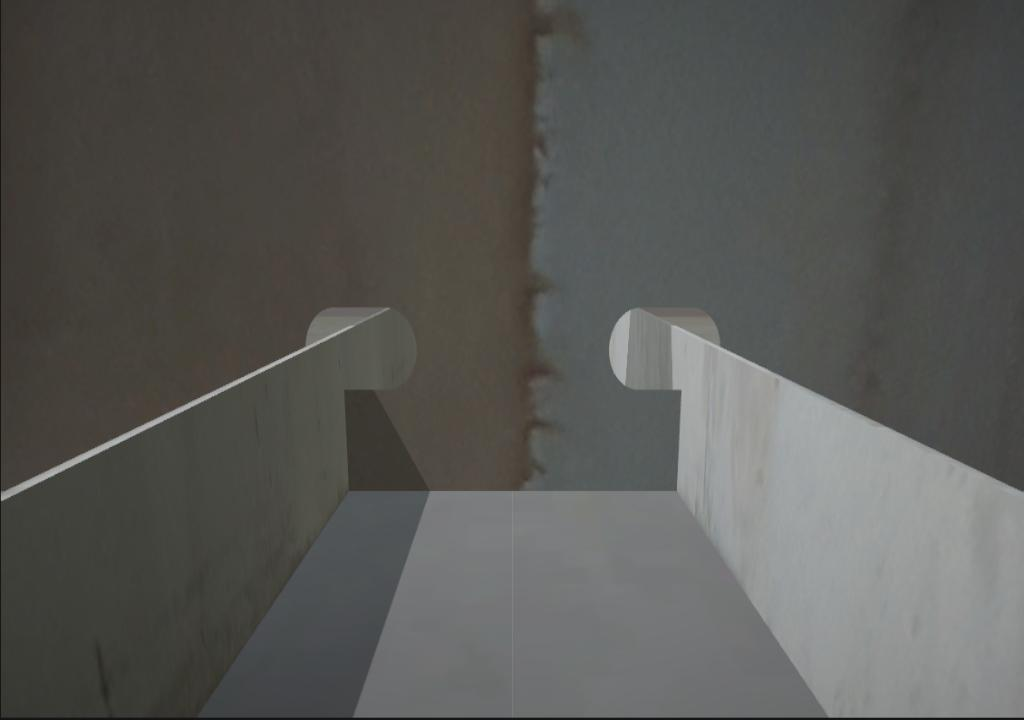fillet_yong_jeop_jang: (345, 475, 689, 505)
longi_yong_jeop_jang: (661, 384, 692, 512), (339, 388, 360, 501)
